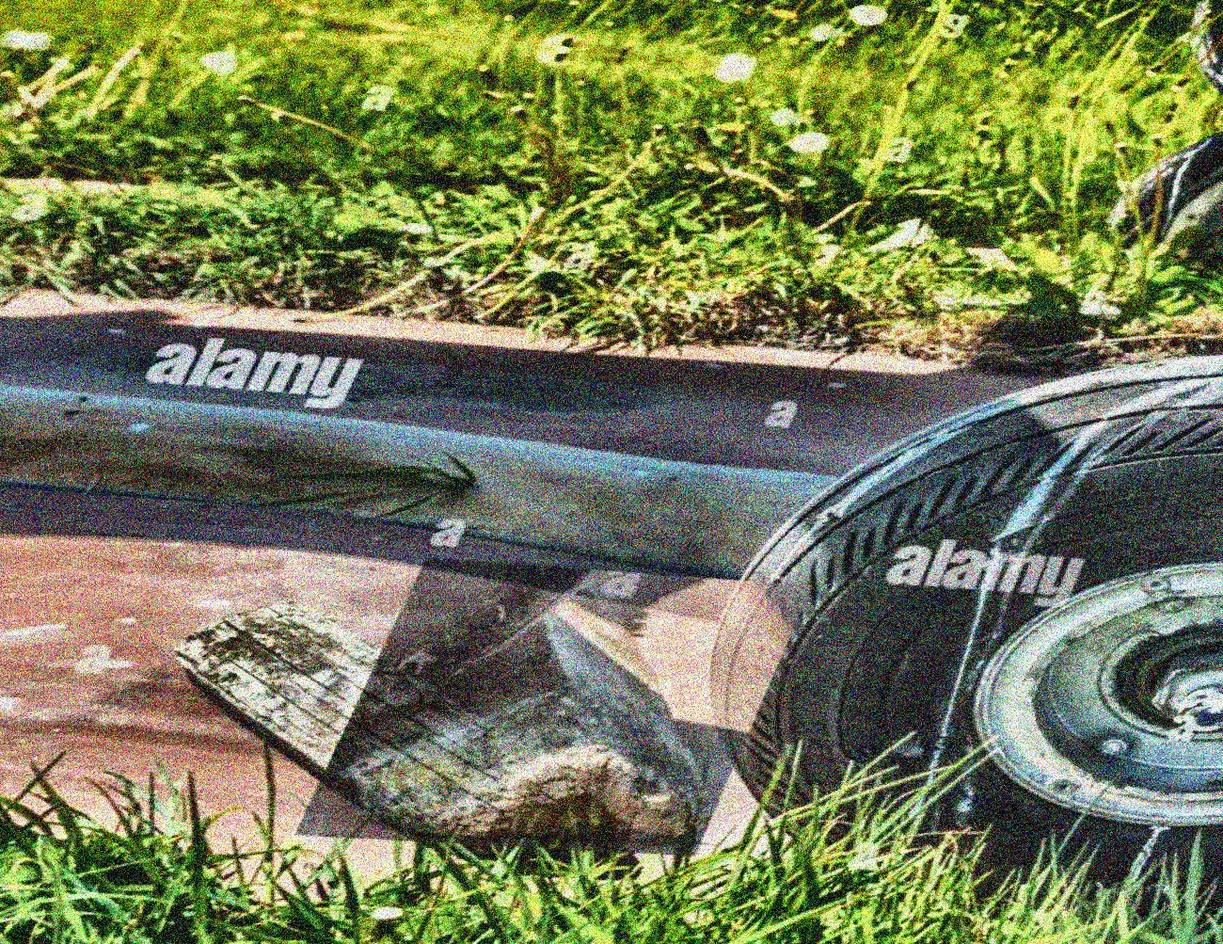chock: (54, 527, 730, 940), (283, 522, 821, 904)
wheel: (578, 243, 1223, 944)
